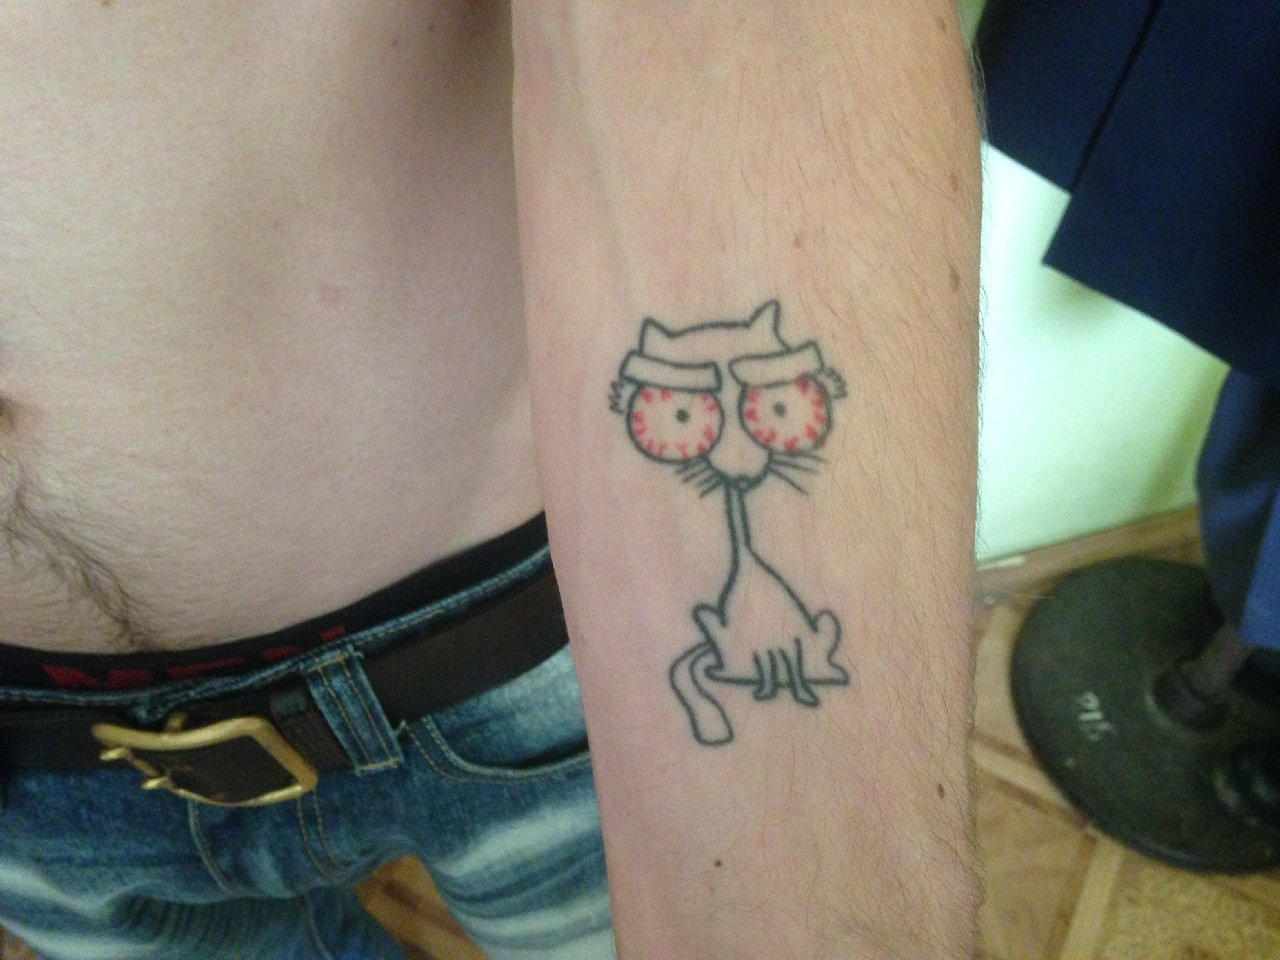tatu8_kot: (603, 293, 872, 763)
